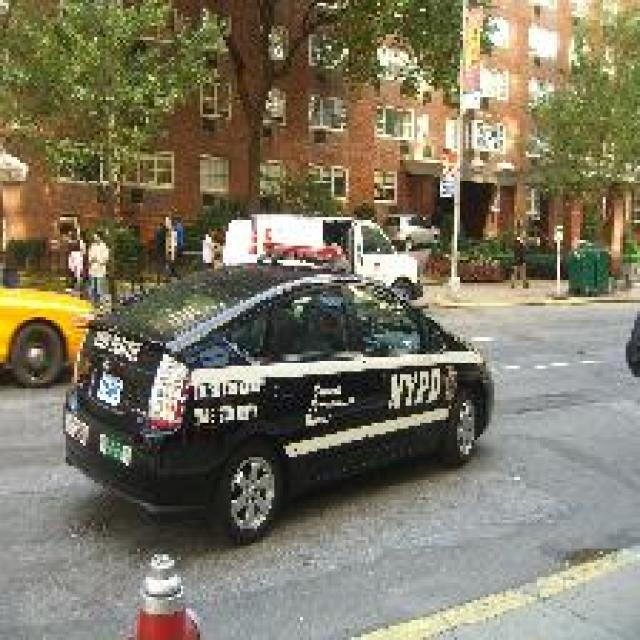emergency: (58, 245, 500, 539)
